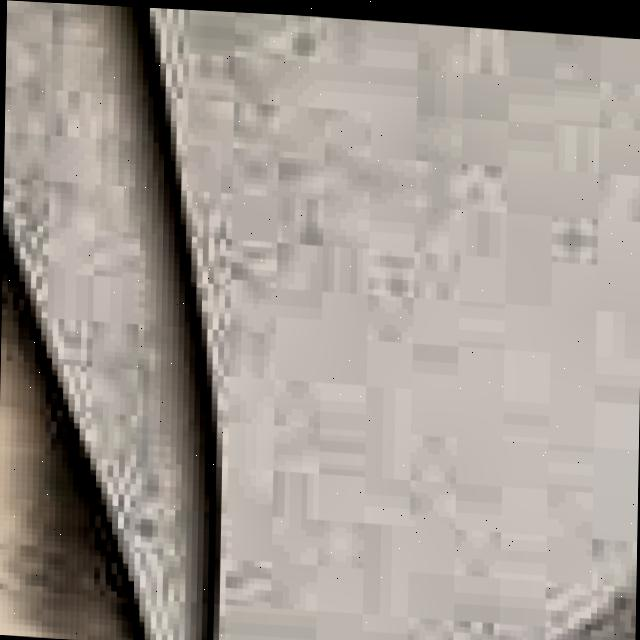paper: (2, 0, 640, 640)
